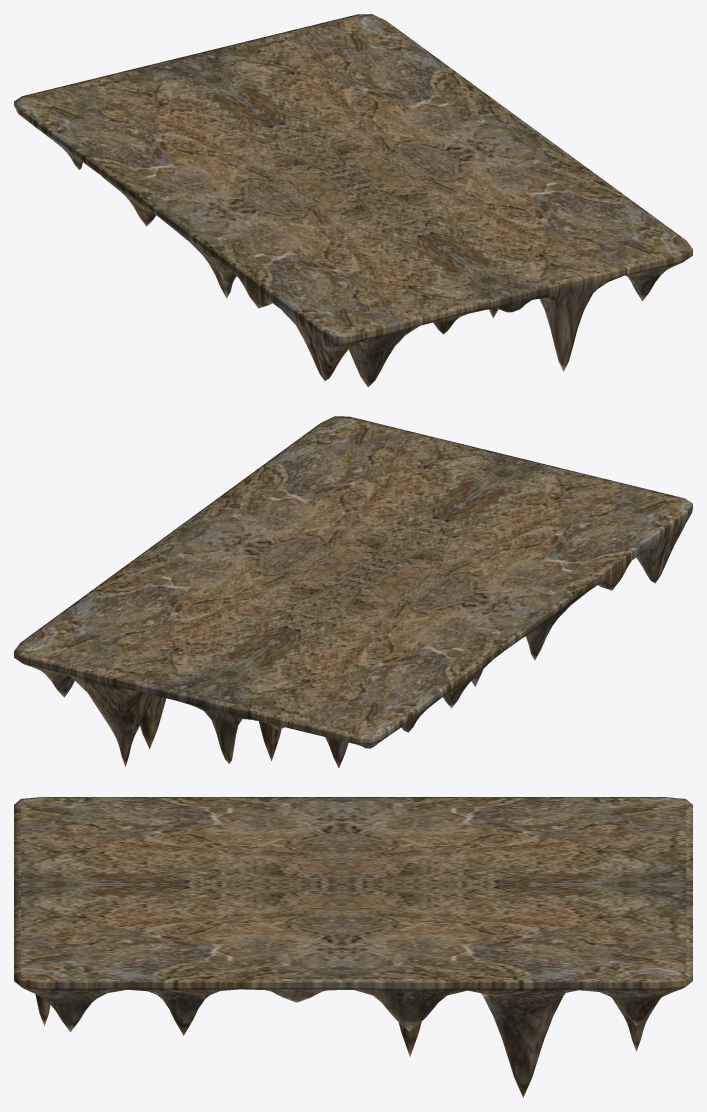
The model's file is Stalactite1_ver2.FBX.
3 renders of one model, top to bottom at view 1: azimuth 30°, elevation 25°; view 2: azimuth 150°, elevation 25°; view 3: azimuth 270°, elevation 25°, orthographic. The views are drawn at different scales.
Visible parts, largest first — view 1: Stalagmite_02; view 2: Stalagmite_02; view 3: Stalagmite_02.
Part boxes in pixels (bbox=[...]): Stalagmite_02: bbox=[14, 14, 692, 387]; Stalagmite_02: bbox=[14, 416, 692, 768]; Stalagmite_02: bbox=[14, 797, 692, 1097].
Bounding box in the file's own units: 58.07 × 21.68 × 90.12.
1 material, 1 textured.
